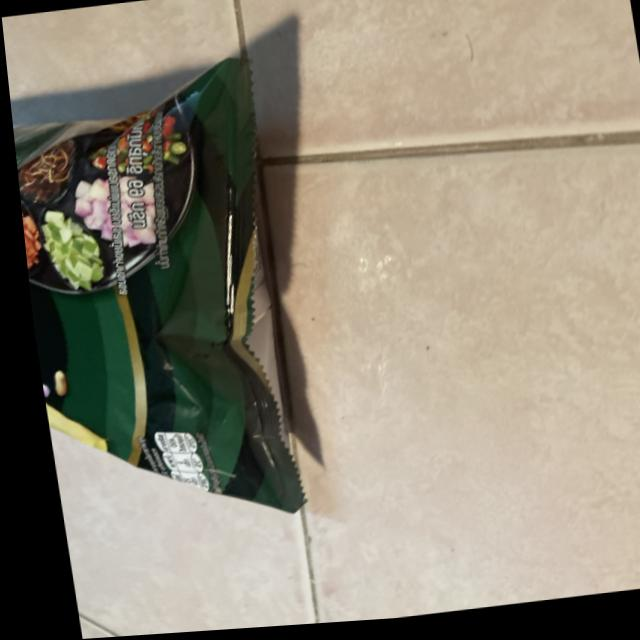Laygreen: (5, 51, 344, 545)
